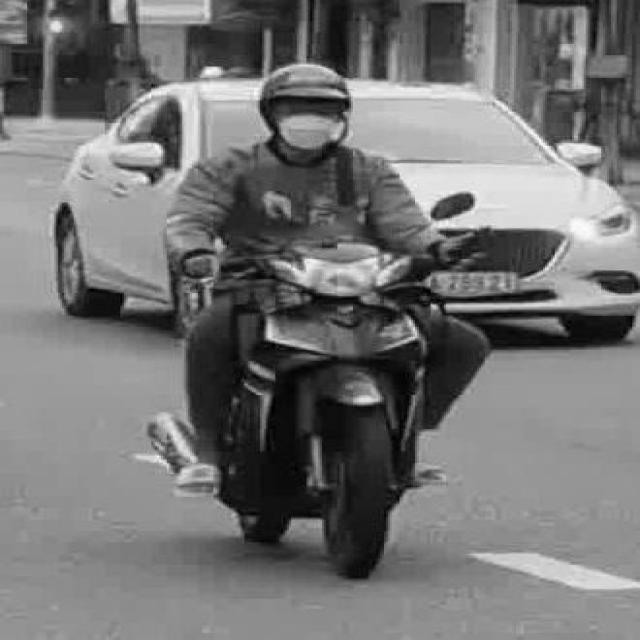helmet on: (258, 62, 355, 151)
